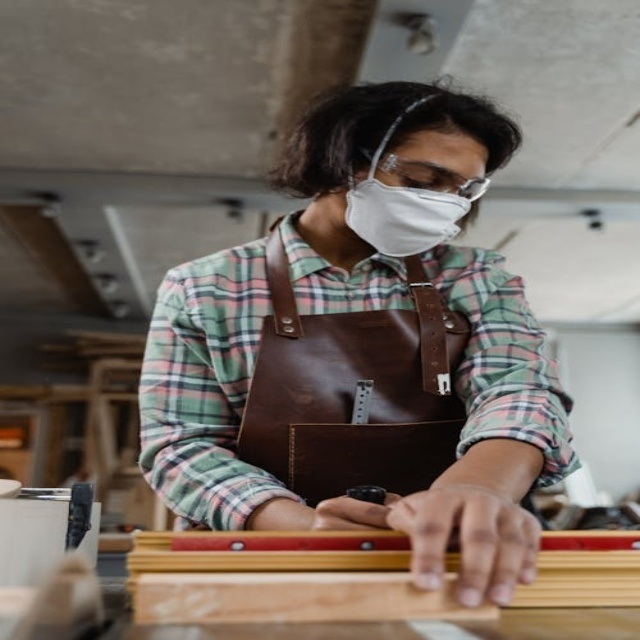Gafas: (362, 149, 491, 200)
Mascara: (343, 161, 478, 259)
Sin_guantes: (370, 482, 544, 608), (285, 479, 410, 530)
